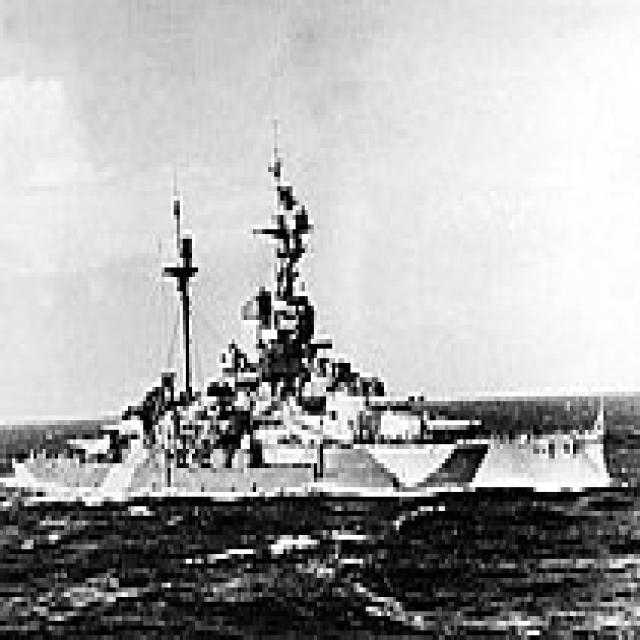boat: (29, 401, 622, 497)
